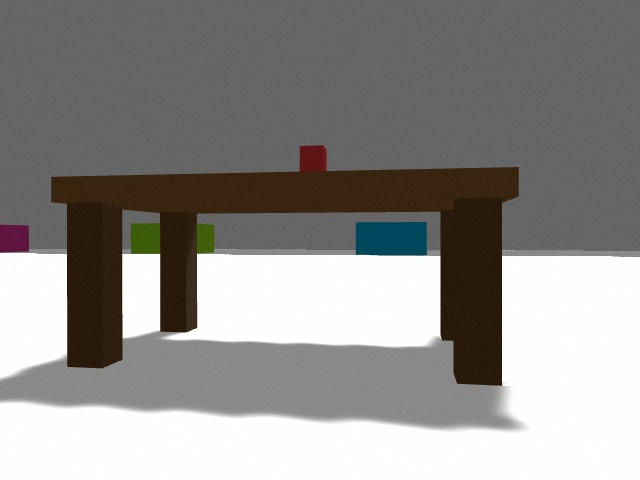blue_drop_zone: (356, 222, 427, 255)
green_drop_zone: (131, 223, 160, 254), (197, 224, 214, 253)
red_cube: (323, 148, 327, 171)
red_drop_zone: (0, 225, 29, 252)
